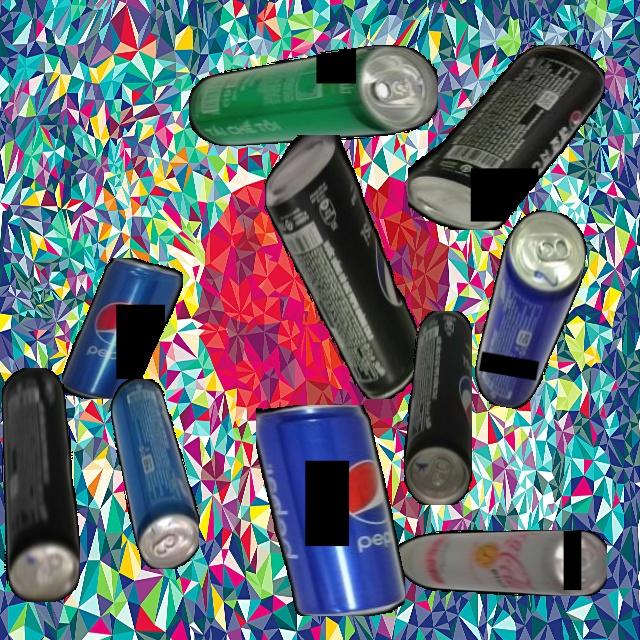debris: (263, 134, 423, 399), (407, 45, 605, 230), (255, 405, 405, 616), (470, 204, 592, 416), (188, 45, 438, 146), (1, 367, 80, 602), (62, 257, 183, 399), (110, 378, 199, 569), (393, 530, 607, 596), (403, 310, 472, 505)
